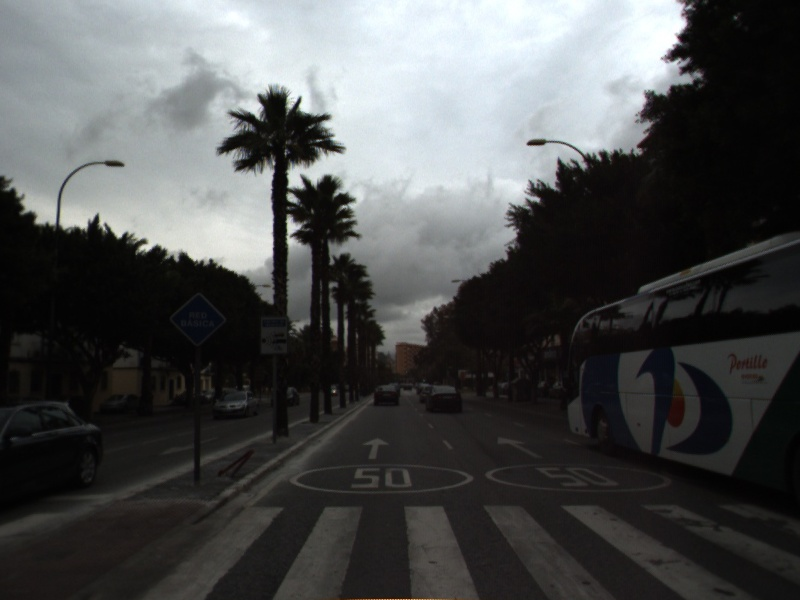STRAIGHT: (495, 434, 545, 461), (360, 435, 392, 461)
